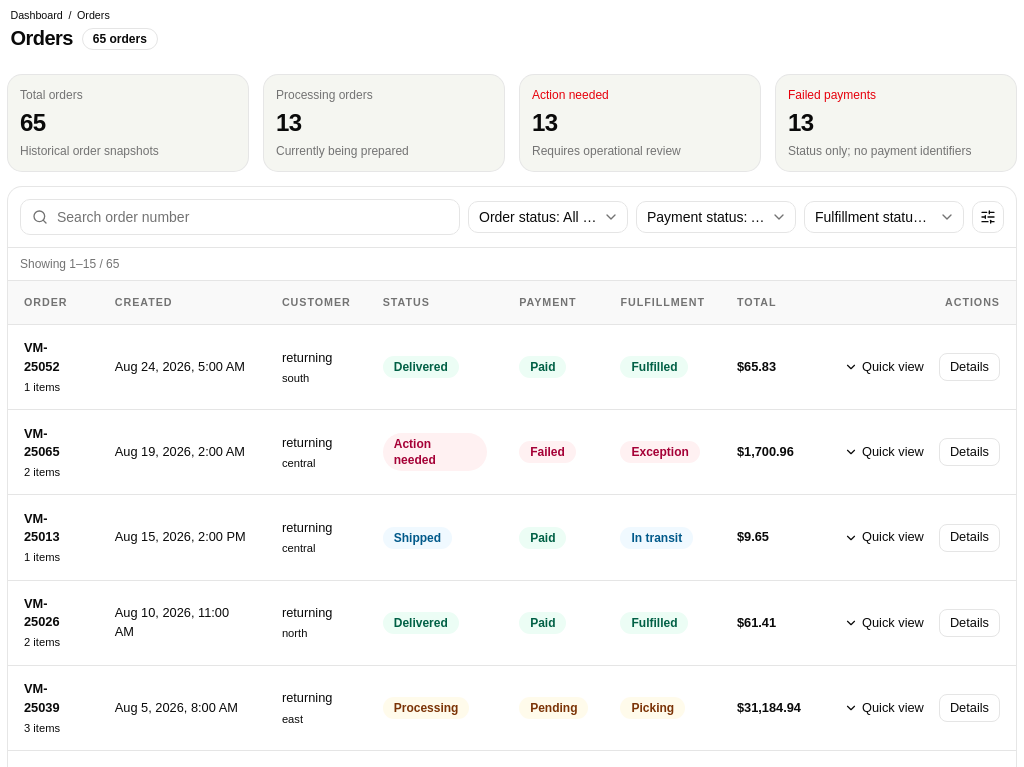
order data states › shows loading ReturnStore state in an expanded order row
The width and height of the screenshot is (1024, 767).
Click the button "Quick view" in the row of "VM-25052": (884, 367) [833,353,935,381]
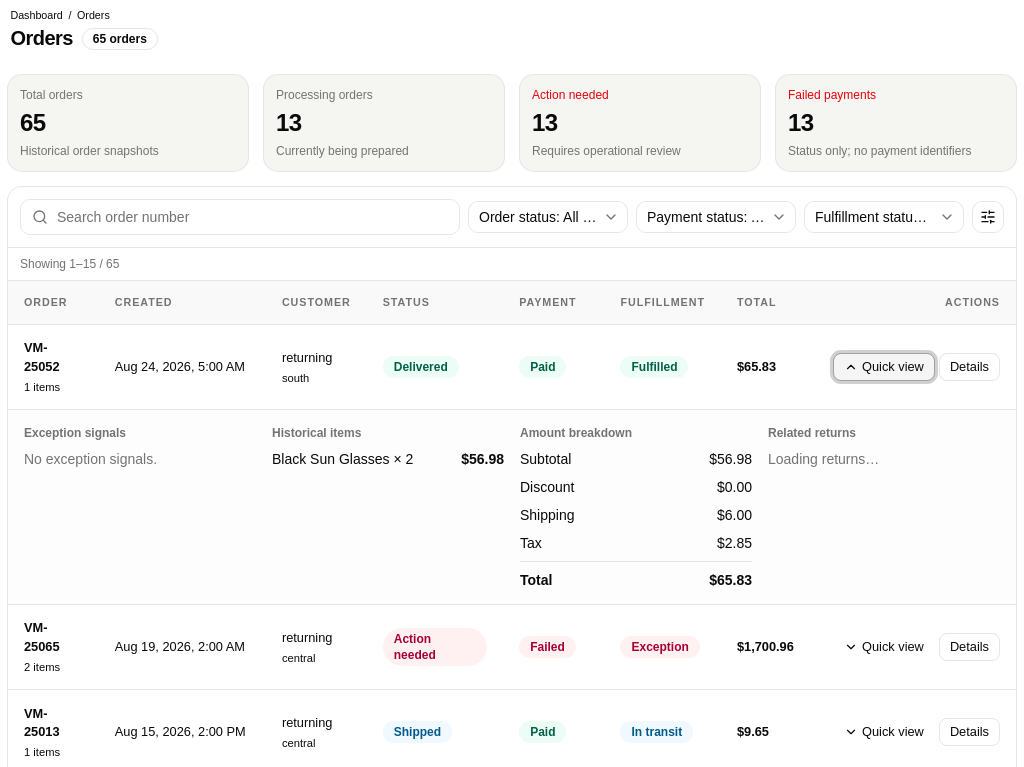
Now the text "Loading returns…" is shown, box [768,451,879,467]
